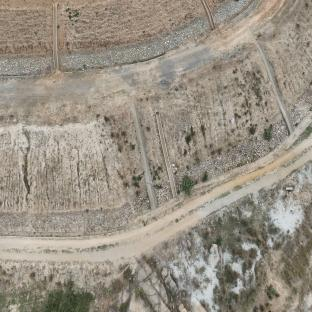rock_toe: (175, 118, 290, 193), (59, 15, 209, 67), (1, 190, 150, 229), (0, 52, 53, 74), (290, 84, 312, 128), (213, 1, 250, 25), (156, 181, 172, 204)
slope_drain: (257, 42, 295, 134), (133, 103, 157, 209), (155, 111, 177, 198), (52, 1, 59, 70), (202, 0, 215, 30)
toe_drain: (0, 110, 312, 236)
